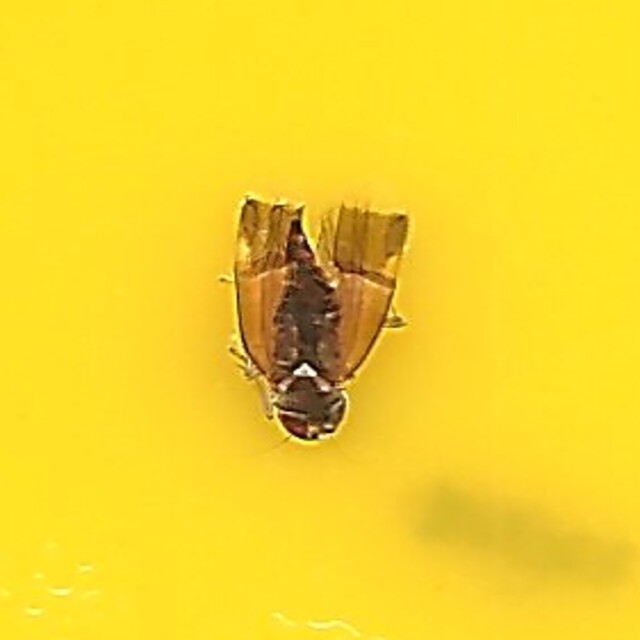Hemiptera: (228, 195, 412, 445)
